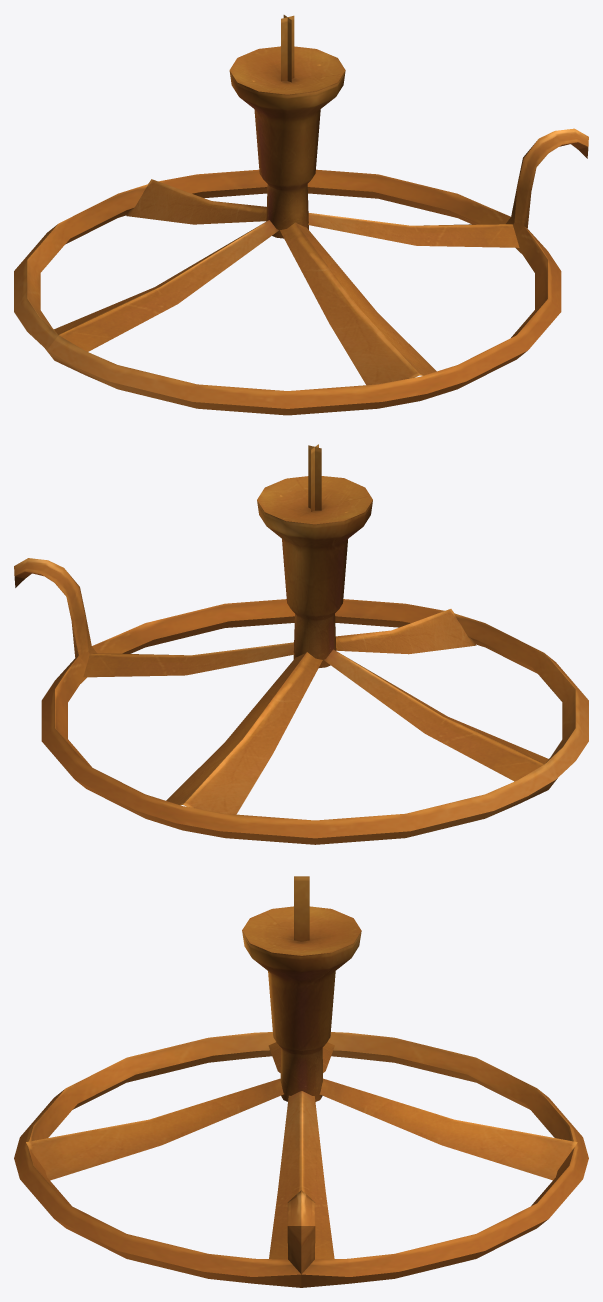
Rendered from ShenFuXiuXiShi_01_zhutai_01.FBX.
3 views of the same model, one above another, from view 1: azimuth 30°, elevation 25°; view 2: azimuth 150°, elevation 25°; view 3: azimuth 270°, elevation 25° (orthographic). The views are drawn at different scales.
Visible parts, largest first — view 1: ShenFuXiuXiShi_01_zhutai_01; view 2: ShenFuXiuXiShi_01_zhutai_01; view 3: ShenFuXiuXiShi_01_zhutai_01.
Boxes of the visible parts, x1,y1,x2,y2 form: ShenFuXiuXiShi_01_zhutai_01: (14,15,588,415); ShenFuXiuXiShi_01_zhutai_01: (14,444,588,844); ShenFuXiuXiShi_01_zhutai_01: (14,876,588,1287).
Size of the model in its own units: 106 by 53.39 by 94.45.
